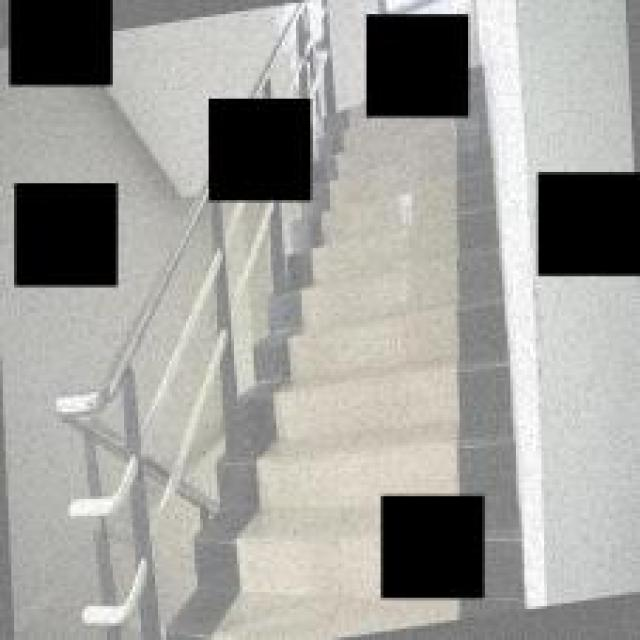upstair: (253, 209, 504, 465), (491, 299, 494, 316)
